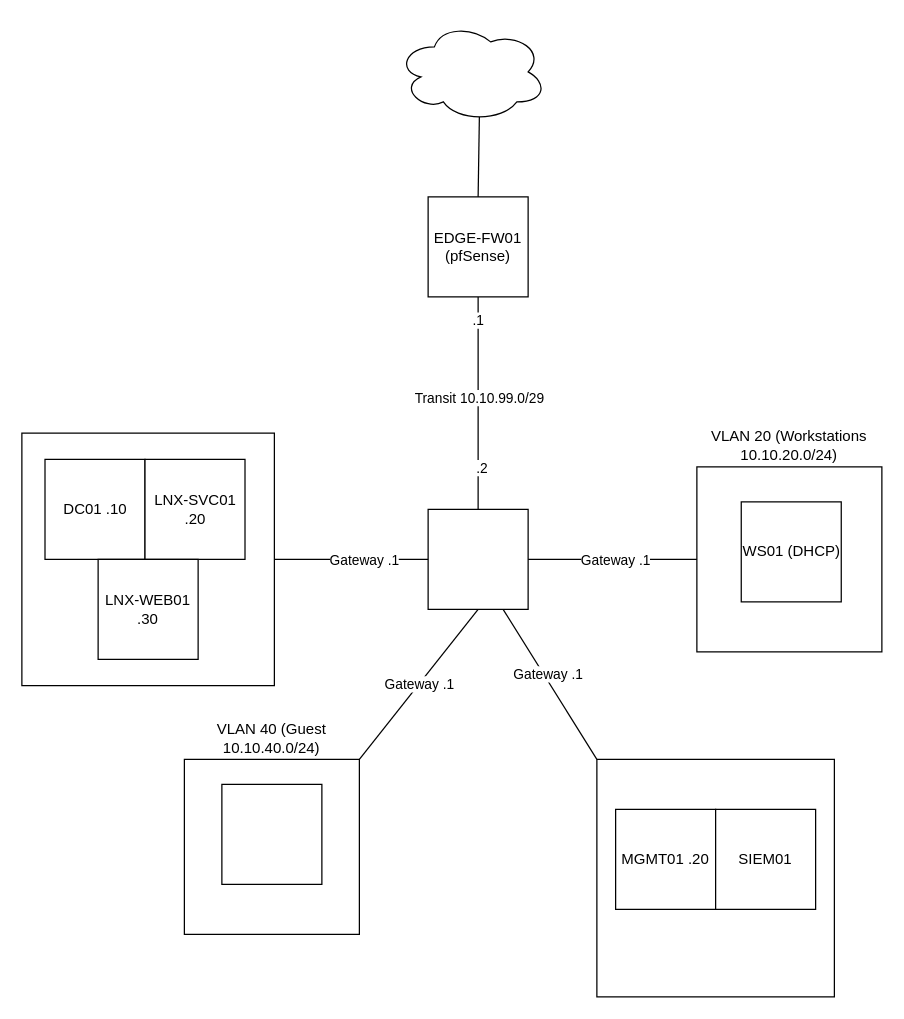
This 904x1019 diagram has some shape labels left out. The box of each missing label's shape, as (x1, y1, x2, y2) in pixels:
CORE-RTR01: (427, 508, 528, 609)
GUEST01 (DHCP): (221, 783, 322, 884)
Internet: (396, 21, 547, 122)
VLAN 10 (Servers 10.10.10.0/24): (21, 432, 274, 686)
VLAN 30 (Management 10.10.30.0/24): (596, 758, 834, 997)
